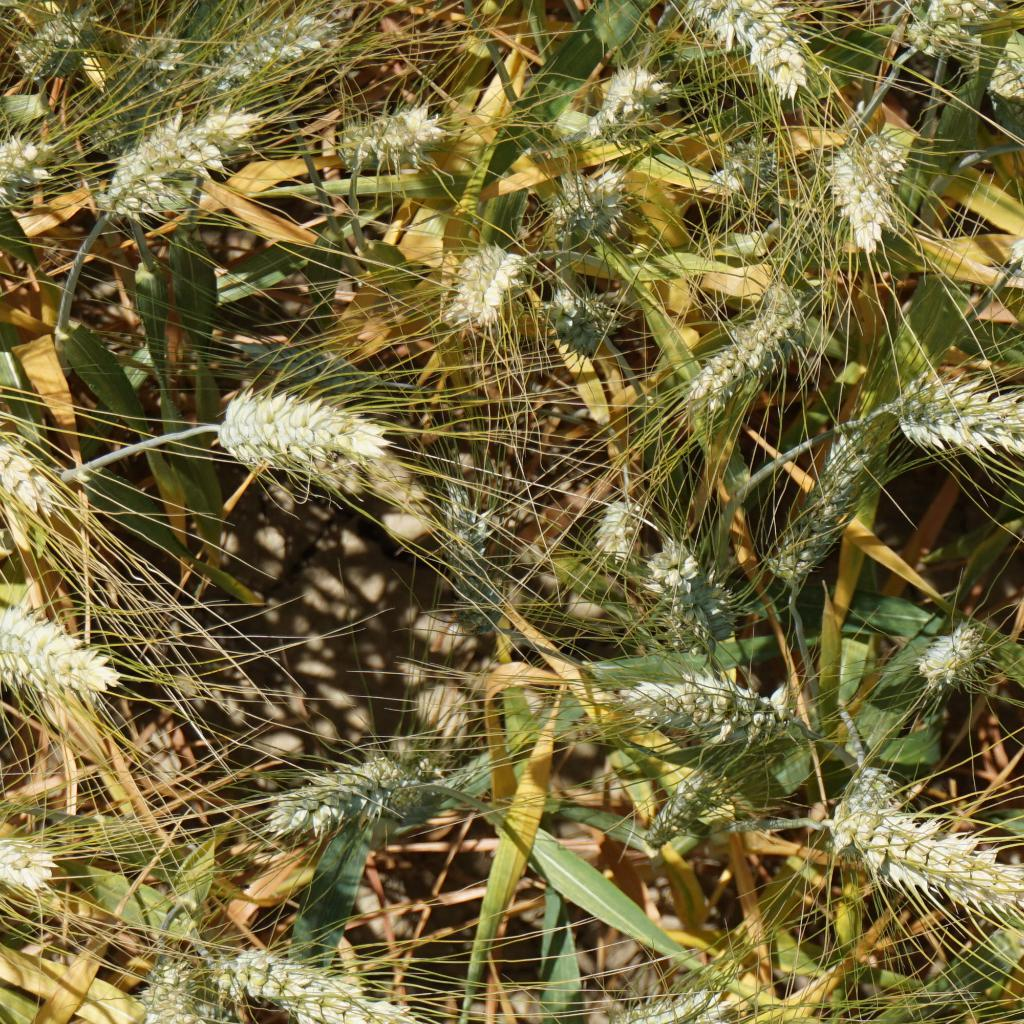0-0: (809, 799, 1024, 941), (764, 404, 901, 591), (681, 263, 816, 429), (253, 739, 453, 847), (204, 376, 391, 488), (86, 11, 203, 187), (620, 659, 809, 761), (228, 935, 433, 1024), (899, 20, 1024, 160), (425, 458, 518, 644), (880, 354, 1024, 472), (98, 110, 253, 210), (818, 129, 919, 266), (633, 539, 739, 665), (0, 584, 104, 697), (197, 15, 334, 94), (694, 0, 830, 76), (0, 362, 65, 521), (307, 96, 454, 165), (561, 39, 655, 141), (618, 761, 718, 850), (135, 931, 224, 1024), (828, 736, 913, 826), (551, 165, 637, 248), (7, 0, 96, 80), (446, 238, 523, 330), (913, 610, 996, 695), (541, 271, 647, 336), (597, 978, 741, 1024), (586, 476, 653, 570), (913, 0, 1002, 67), (0, 128, 39, 262), (712, 134, 768, 212), (0, 815, 60, 880), (984, 210, 1024, 285)
